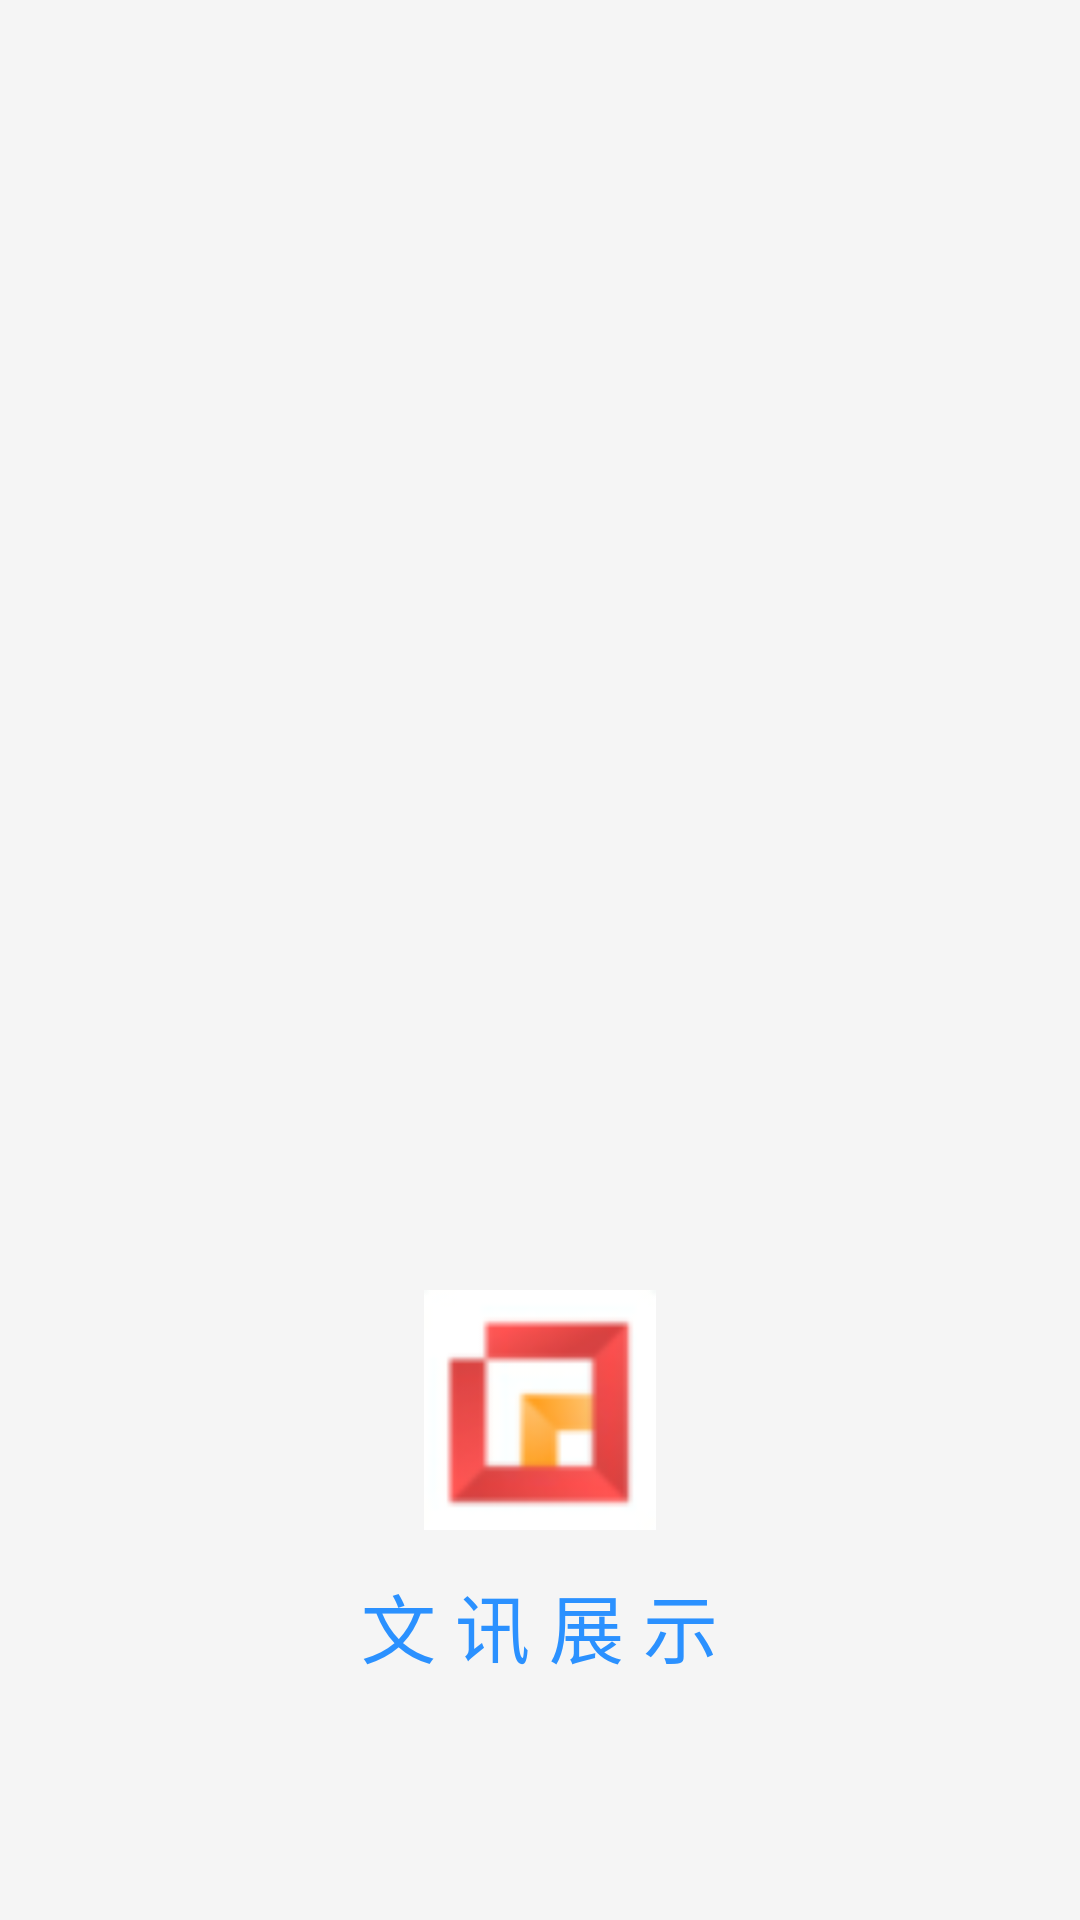

Named icons in this screenshot (1080w x 1920h) and their centers, (x=x, y=y):
your company: (x=539, y=1413)
